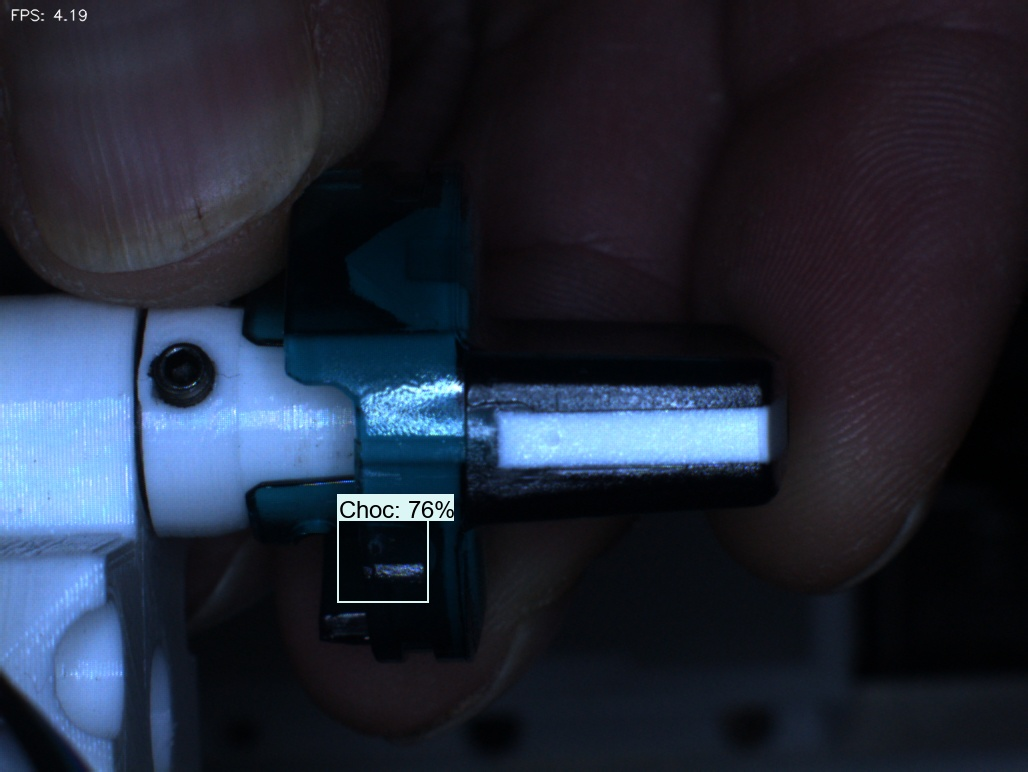DentOk: (316, 219, 394, 321)
